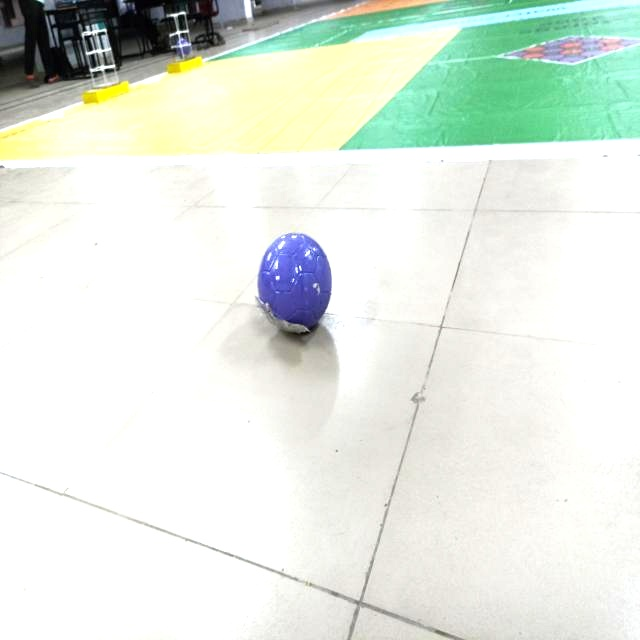purple_ball: (260, 228, 334, 342), (175, 32, 190, 58)
silo: (81, 27, 120, 90), (166, 10, 195, 64)
